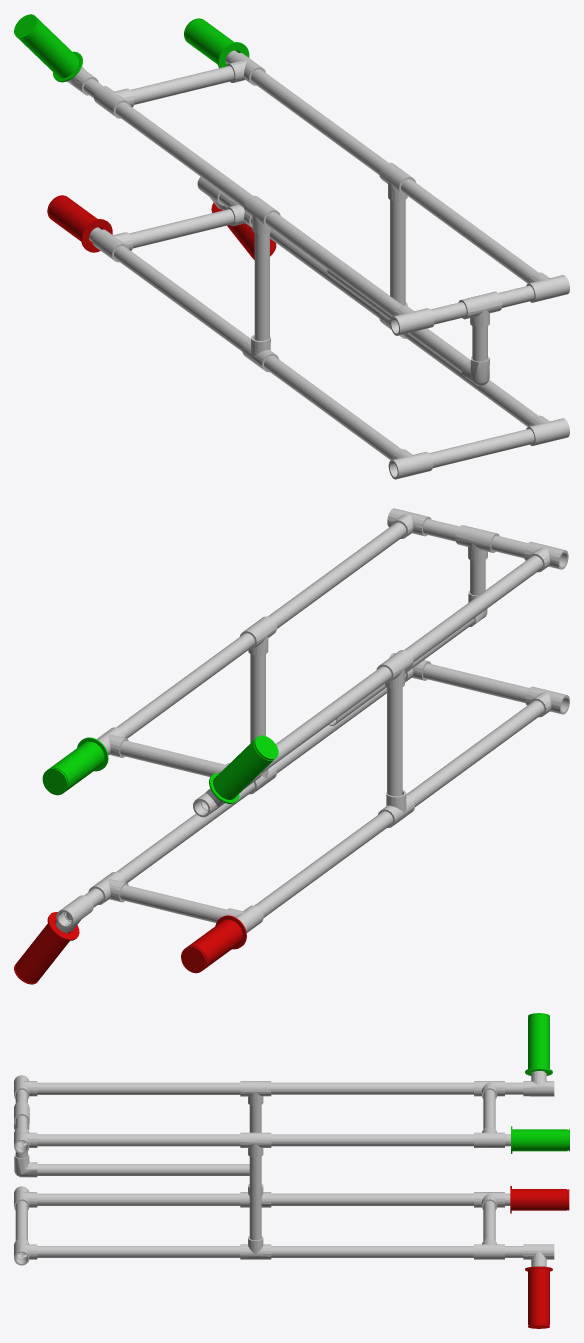
The model's file is tower_color.obj.
3 renders of one model, top to bottom at view 1: azimuth 30°, elevation 25°; view 2: azimuth 150°, elevation 25°; view 3: azimuth 270°, elevation 25°, orthographic. The views are drawn at different scales.
Visible parts, largest first — view 1: ShapeIndexedFaceSet.039_ShapeIndexedFaceSet.042, ShapeIndexedFaceSet.004_ShapeIndexedFaceSet.007, ShapeIndexedFaceSet.050_ShapeIndexedFaceSet.053, ShapeIndexedFaceSet.043_ShapeIndexedFaceSet.046, ShapeIndexedFaceSet.005_ShapeIndexedFaceSet.008, ShapeIndexedFaceSet.048_ShapeIndexedFaceSet.051, ShapeIndexedFaceSet_ShapeIndexedFaceSet.003, ShapeIndexedFaceSet.013_ShapeIndexedFaceSet.016, ShapeIndexedFaceSet.044_ShapeIndexedFaceSet.047, ShapeIndexedFaceSet.012_ShapeIndexedFaceSet.015, ShapeIndexedFaceSet.030_ShapeIndexedFaceSet.033, ShapeIndexedFaceSet.001_ShapeIndexedFaceSet.004 (+17 smaller); view 2: ShapeIndexedFaceSet.039_ShapeIndexedFaceSet.042, ShapeIndexedFaceSet.050_ShapeIndexedFaceSet.053, ShapeIndexedFaceSet.043_ShapeIndexedFaceSet.046, ShapeIndexedFaceSet.048_ShapeIndexedFaceSet.051, ShapeIndexedFaceSet.005_ShapeIndexedFaceSet.008, ShapeIndexedFaceSet.004_ShapeIndexedFaceSet.007, ShapeIndexedFaceSet.003_ShapeIndexedFaceSet.006, ShapeIndexedFaceSet.044_ShapeIndexedFaceSet.047, ShapeIndexedFaceSet_ShapeIndexedFaceSet.003, ShapeIndexedFaceSet.013_ShapeIndexedFaceSet.016, ShapeIndexedFaceSet.030_ShapeIndexedFaceSet.033, ShapeIndexedFaceSet.012_ShapeIndexedFaceSet.015 (+15 smaller); view 3: ShapeIndexedFaceSet.043_ShapeIndexedFaceSet.046, ShapeIndexedFaceSet.048_ShapeIndexedFaceSet.051, ShapeIndexedFaceSet.050_ShapeIndexedFaceSet.053, ShapeIndexedFaceSet.005_ShapeIndexedFaceSet.008, ShapeIndexedFaceSet.004_ShapeIndexedFaceSet.007, ShapeIndexedFaceSet.039_ShapeIndexedFaceSet.042, ShapeIndexedFaceSet.018_ShapeIndexedFaceSet.021, ShapeIndexedFaceSet.051_ShapeIndexedFaceSet.054, ShapeIndexedFaceSet.003_ShapeIndexedFaceSet.006, ShapeIndexedFaceSet.026_ShapeIndexedFaceSet.029, ShapeIndexedFaceSet.034_ShapeIndexedFaceSet.037, ShapeIndexedFaceSet.022_ShapeIndexedFaceSet.025 (+17 smaller).
Part boxes in pixels (box(x1,y1,x2,y2)): ShapeIndexedFaceSet.039_ShapeIndexedFaceSet.042: box(114, 246, 250, 351); ShapeIndexedFaceSet.004_ShapeIndexedFaceSet.007: box(115, 102, 252, 207); ShapeIndexedFaceSet.050_ShapeIndexedFaceSet.053: box(264, 355, 401, 460); ShapeIndexedFaceSet.043_ShapeIndexedFaceSet.046: box(401, 179, 538, 283); ShapeIndexedFaceSet.005_ShapeIndexedFaceSet.008: box(251, 69, 388, 174); ShapeIndexedFaceSet.048_ShapeIndexedFaceSet.051: box(265, 212, 402, 316); ShapeIndexedFaceSet_ShapeIndexedFaceSet.003: box(254, 233, 269, 340); ShapeIndexedFaceSet.013_ShapeIndexedFaceSet.016: box(129, 209, 234, 248); ShapeIndexedFaceSet.044_ShapeIndexedFaceSet.047: box(429, 429, 534, 467); ShapeIndexedFaceSet.012_ShapeIndexedFaceSet.015: box(131, 66, 234, 104); ShapeIndexedFaceSet.030_ShapeIndexedFaceSet.033: box(17, 18, 78, 78); ShapeIndexedFaceSet.001_ShapeIndexedFaceSet.004: box(390, 200, 405, 305); ShapeIndexedFaceSet.039_ShapeIndexedFaceSet.042: box(254, 811, 392, 917); ShapeIndexedFaceSet.050_ShapeIndexedFaceSet.053: box(406, 700, 544, 806); ShapeIndexedFaceSet.043_ShapeIndexedFaceSet.046: box(268, 522, 406, 628); ShapeIndexedFaceSet.048_ShapeIndexedFaceSet.051: box(404, 555, 542, 662); ShapeIndexedFaceSet.005_ShapeIndexedFaceSet.008: box(117, 633, 254, 738); ShapeIndexedFaceSet.004_ShapeIndexedFaceSet.007: box(262, 666, 391, 773); ShapeIndexedFaceSet.003_ShapeIndexedFaceSet.006: box(116, 782, 254, 882); ShapeIndexedFaceSet.044_ShapeIndexedFaceSet.047: box(423, 663, 528, 703); ShapeIndexedFaceSet_ShapeIndexedFaceSet.003: box(387, 687, 402, 796); ShapeIndexedFaceSet.013_ShapeIndexedFaceSet.016: box(120, 885, 226, 922); ShapeIndexedFaceSet.030_ShapeIndexedFaceSet.033: box(213, 738, 274, 799); ShapeIndexedFaceSet.012_ShapeIndexedFaceSet.015: box(120, 740, 224, 776); ShapeIndexedFaceSet.043_ShapeIndexedFaceSet.046: box(37, 1134, 240, 1146); ShapeIndexedFaceSet.048_ShapeIndexedFaceSet.051: box(37, 1082, 240, 1094); ShapeIndexedFaceSet.050_ShapeIndexedFaceSet.053: box(37, 1193, 240, 1205); ShapeIndexedFaceSet.005_ShapeIndexedFaceSet.008: box(271, 1134, 473, 1146); ShapeIndexedFaceSet.004_ShapeIndexedFaceSet.007: box(271, 1082, 473, 1094); ShapeIndexedFaceSet.039_ShapeIndexedFaceSet.042: box(271, 1193, 473, 1205); ShapeIndexedFaceSet.018_ShapeIndexedFaceSet.021: box(37, 1164, 249, 1175); ShapeIndexedFaceSet.051_ShapeIndexedFaceSet.054: box(37, 1246, 240, 1257); ShapeIndexedFaceSet.003_ShapeIndexedFaceSet.006: box(271, 1246, 473, 1257); ShapeIndexedFaceSet.026_ShapeIndexedFaceSet.029: box(512, 1129, 567, 1151); ShapeIndexedFaceSet.034_ShapeIndexedFaceSet.037: box(511, 1189, 566, 1210); ShapeIndexedFaceSet.022_ShapeIndexedFaceSet.025: box(528, 1268, 549, 1324).
Bounding box in the file's own units: 0.6391 × 0.7059 × 1.53.
